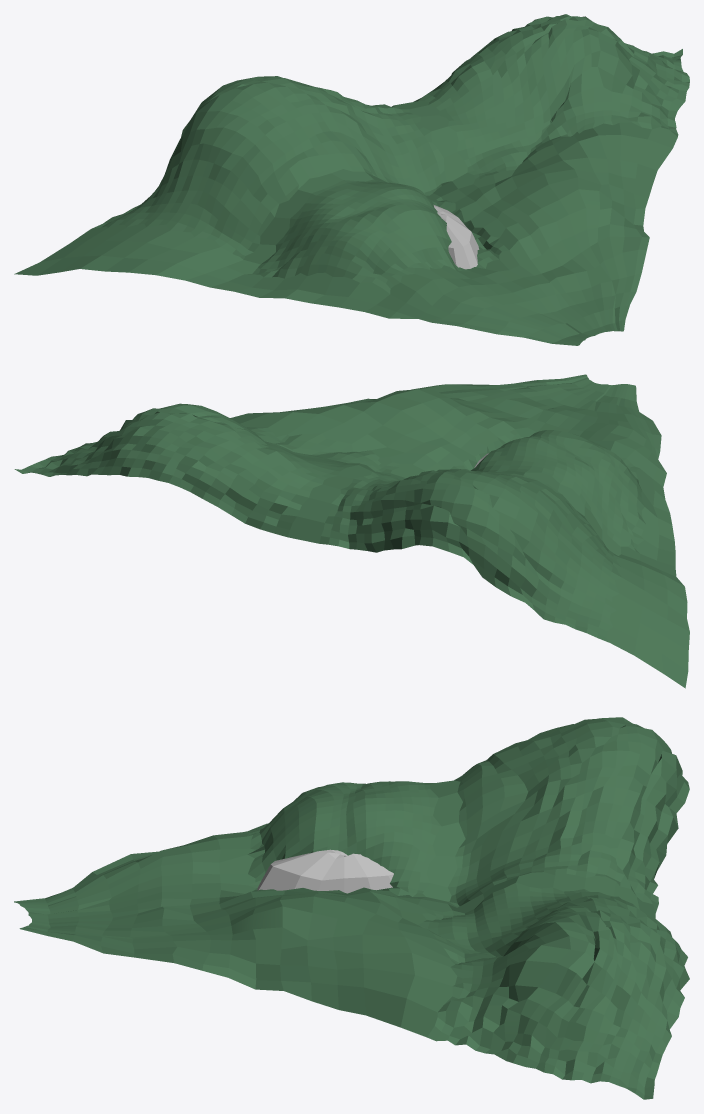
The model's file is forest.fbx.
The picture shows the model from 3 angles, top to bottom: view 1: azimuth 30°, elevation 25°; view 2: azimuth 150°, elevation 25°; view 3: azimuth 270°, elevation 25°; orthographic projection. The views are drawn at different scales.
Visible parts, largest first — view 1: forest_terrain, rock; view 2: forest_terrain; view 3: forest_terrain, rock.
Boxes of the visible parts, x1,y1,x2,y2 form: forest_terrain: (14, 14, 689, 345); rock: (433, 205, 479, 269); forest_terrain: (14, 374, 689, 688); forest_terrain: (14, 717, 689, 1099); rock: (257, 849, 393, 893).
Size of the model in its own units: 4914 by 1009 by 3485.
